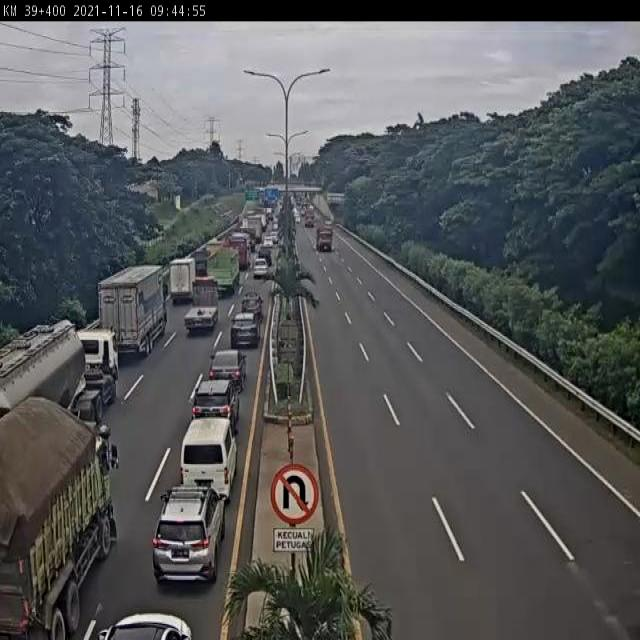Bus: (229, 231, 251, 270)
Car: (152, 486, 226, 586), (100, 613, 192, 640), (193, 379, 241, 429), (209, 350, 247, 390), (230, 313, 262, 349), (240, 292, 264, 312), (252, 258, 270, 281), (258, 246, 272, 265), (264, 237, 274, 248)
Truck: (0, 393, 121, 640), (0, 318, 124, 417), (98, 264, 168, 354), (184, 276, 220, 334), (205, 246, 241, 297), (168, 257, 198, 305), (315, 225, 333, 252), (248, 214, 264, 242), (303, 210, 315, 229)
Van: (178, 416, 239, 502)
